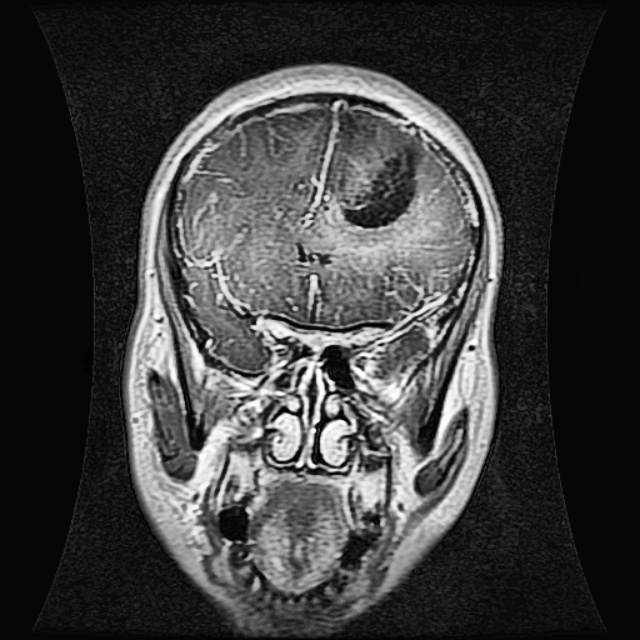Meningioma: (339, 133, 425, 229)
